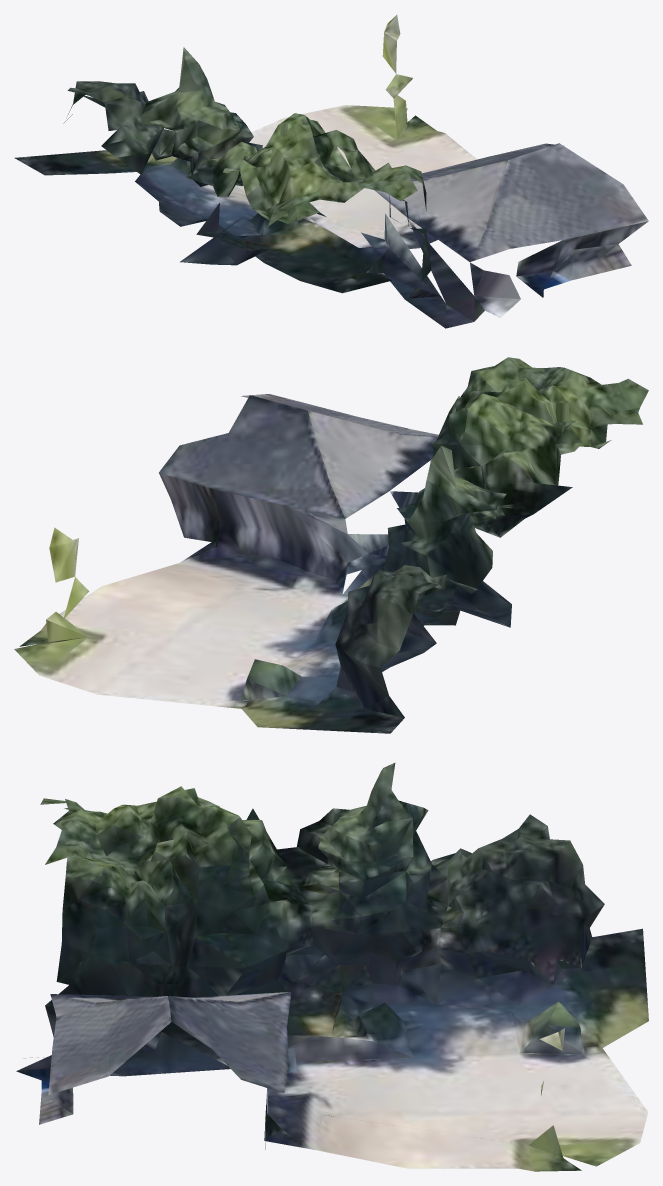
File: Tile_+000_+007_L17_00.glb
3 views of the same model, one above another, from view 1: azimuth 30°, elevation 25°; view 2: azimuth 150°, elevation 25°; view 3: azimuth 270°, elevation 25° (orthographic). The views are drawn at different scales.
Visible parts, largest first — view 1: rtc; view 2: rtc; view 3: rtc.
Boxes of the visible parts, x1,y1,x2,y2 form: rtc: (14, 15, 648, 328); rtc: (14, 357, 648, 733); rtc: (16, 763, 648, 1171).
Bounding box in the file's own units: 47.38 × 24.65 × 60.42.
1 material, 1 textured.
